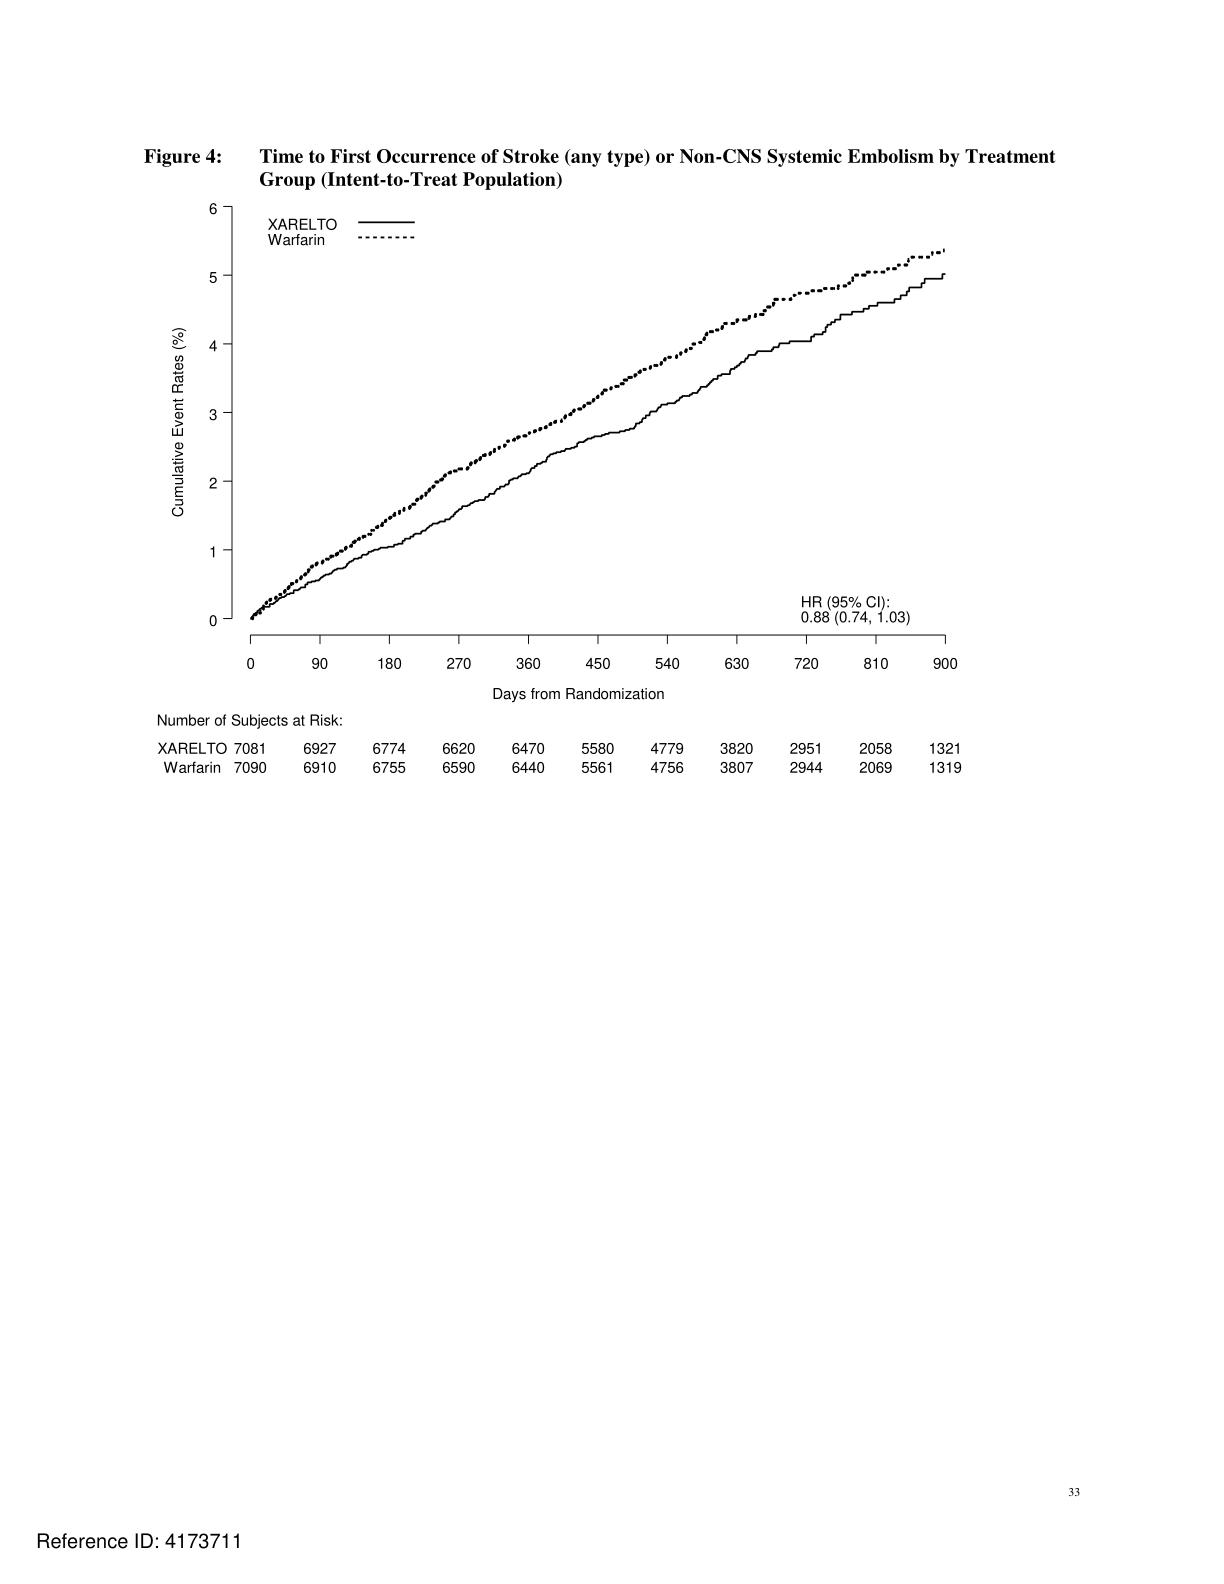nolines: (152, 741, 968, 778)
